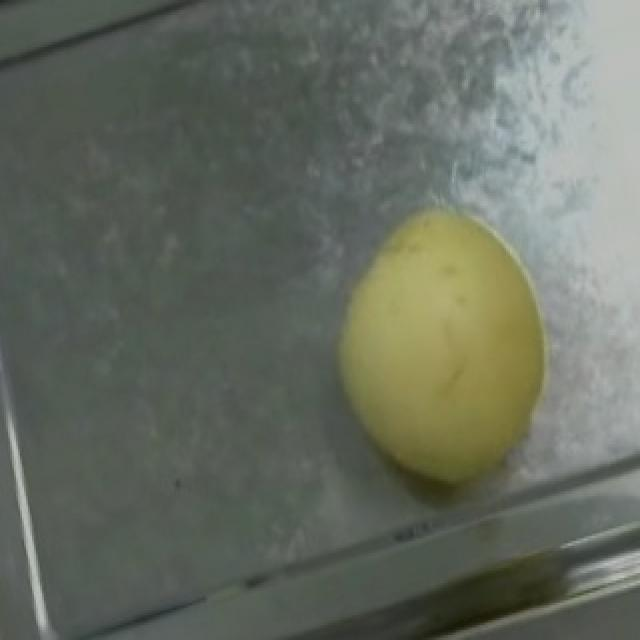Fruit: (288, 176, 596, 519)
